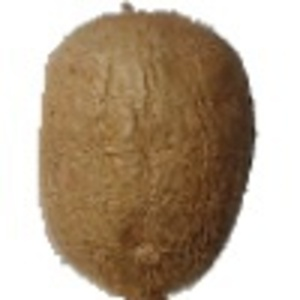kiwi: (35, 1, 258, 300)
